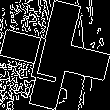L_N: (34, 27, 76, 83)
